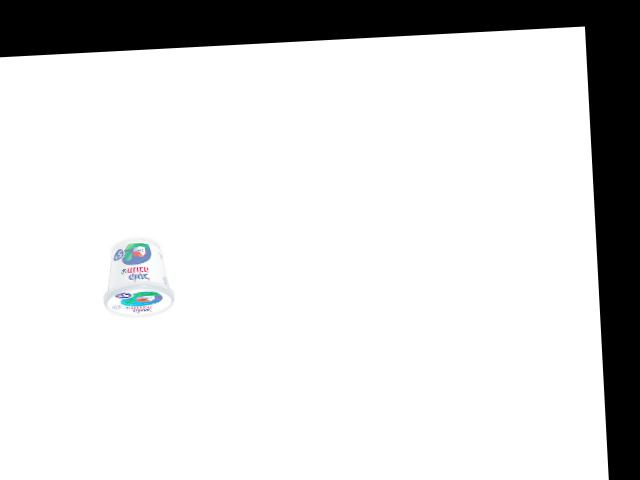cotage: (102, 235, 177, 320)
